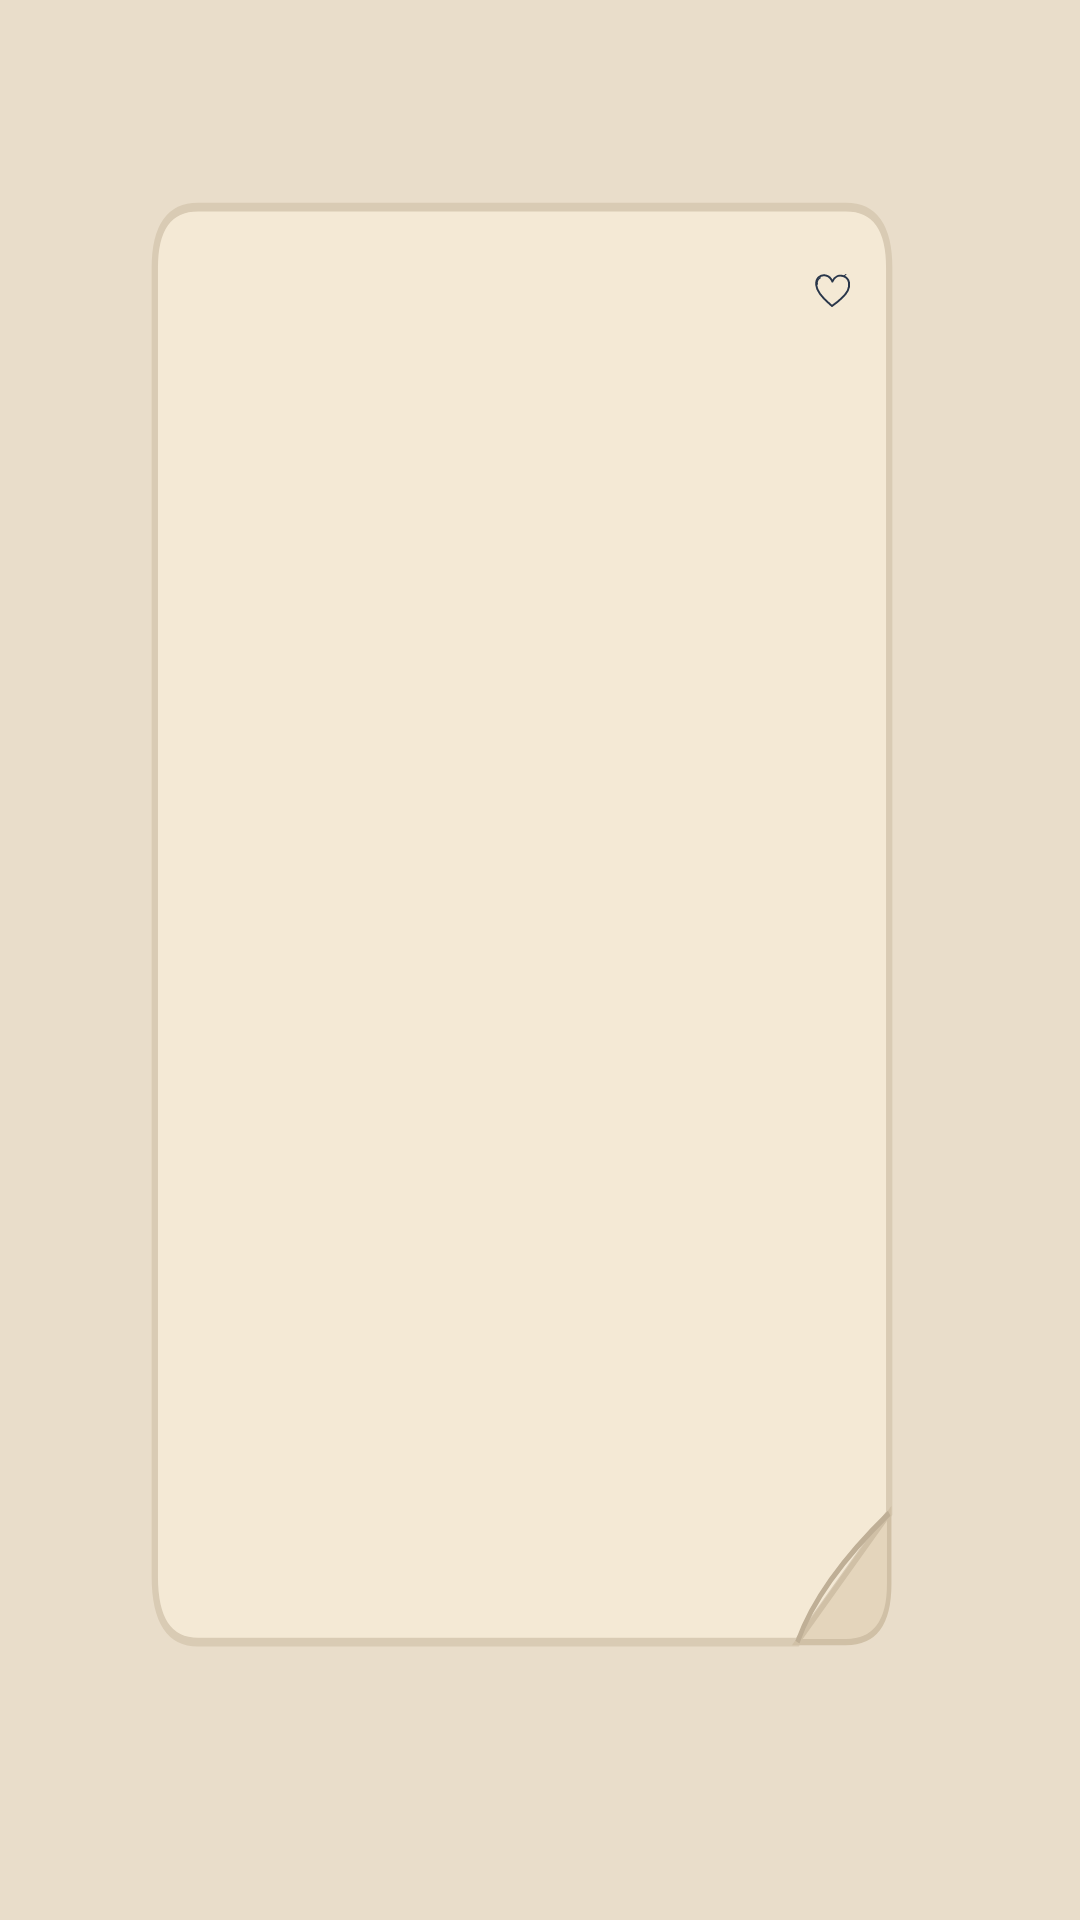

Screen size 1080*1920. Icon name, then its box in pixels as {"x1": x1, "y1": y1, "x2": x2, "y2": y2}:
Toggle favourite: {"x1": 815, "y1": 274, "x2": 850, "y2": 307}
